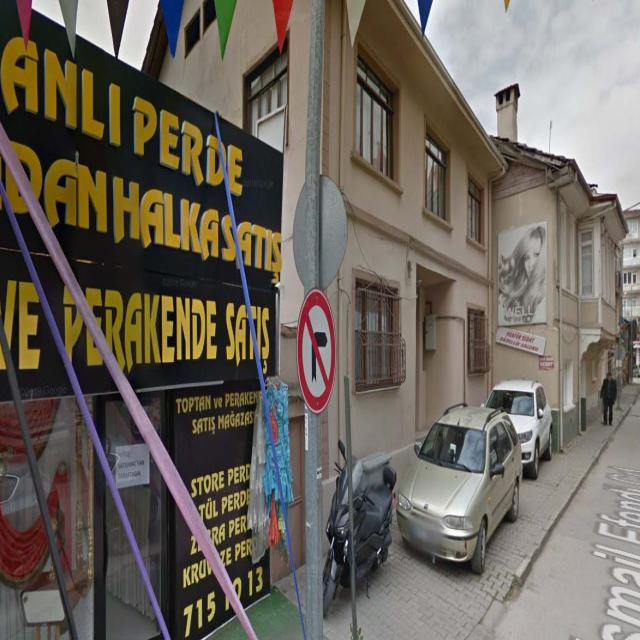sagadonulmez: (298, 294, 334, 412)
